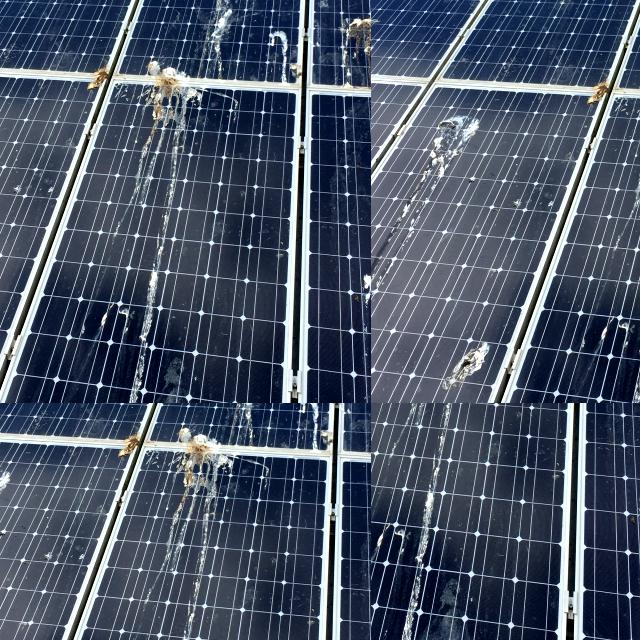bird: (413, 403, 487, 452), (371, 514, 401, 608), (371, 470, 406, 547), (371, 403, 412, 456), (513, 403, 572, 436), (611, 481, 640, 542), (371, 403, 407, 452), (601, 403, 640, 448), (473, 403, 532, 431), (606, 403, 640, 449), (415, 403, 463, 434), (371, 403, 405, 435), (507, 403, 538, 433)
dust: (422, 24, 524, 83), (371, 0, 416, 31), (0, 0, 38, 36), (428, 0, 473, 28), (488, 101, 518, 132), (0, 0, 28, 27), (0, 0, 24, 20)
hotspot: (0, 403, 44, 462), (64, 403, 95, 432), (100, 403, 133, 429), (0, 403, 50, 420)
